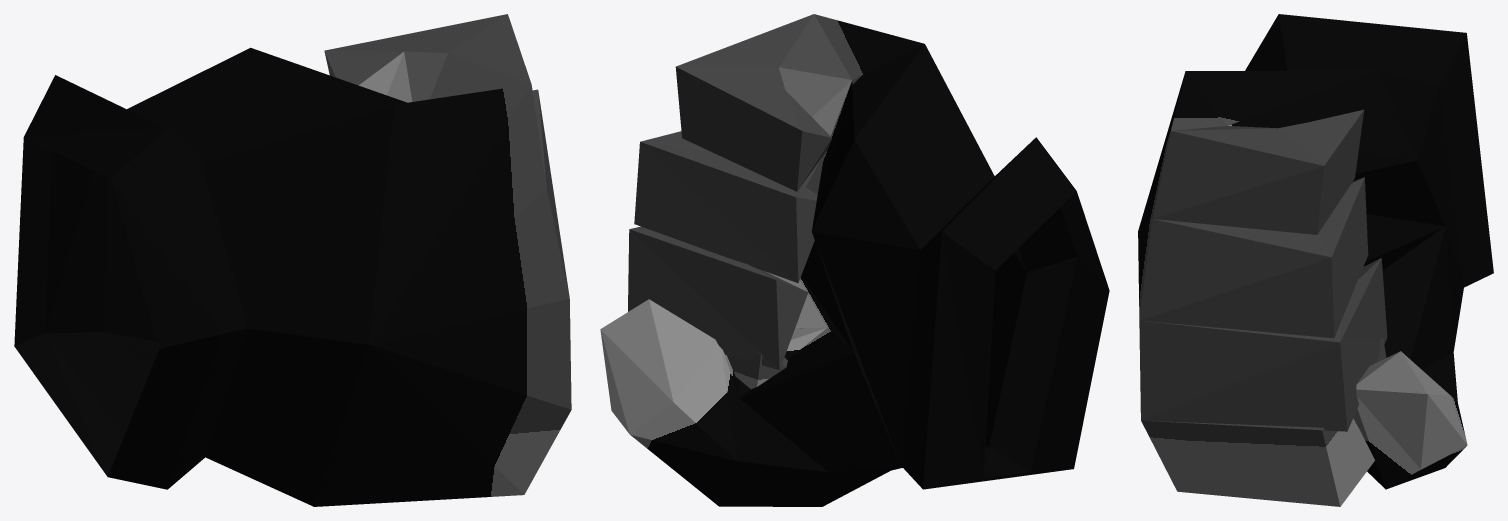
Rendered from ma_hnd3l.obj.
3 renders of one model, left to right at view 1: azimuth 30°, elevation 25°; view 2: azimuth 150°, elevation 25°; view 3: azimuth 270°, elevation 25°, orthographic. The views are drawn at different scales.
Parts seen in each view (by area): view 1: m0_2; view 2: m0_2; view 3: m0_2.
Boxes of the visible parts, box(x1,y1,x2,y2) form: m0_2: box(14, 14, 571, 506); m0_2: box(600, 14, 1109, 506); m0_2: box(1138, 14, 1493, 506).
Bounding box in the file's own units: 26.35 × 23.39 × 20.16.
